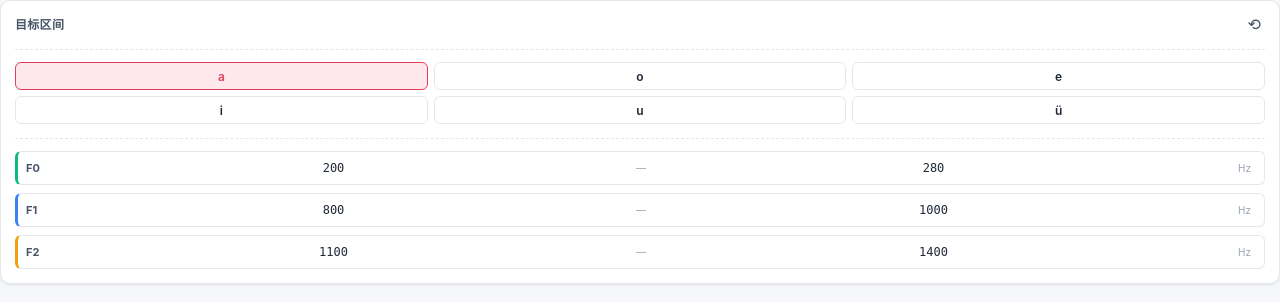
Test: TargetPresetBar › commits on blur and clamps F0 to the shared chart ceiling
Step 1. Replace the text in the number field named "F0上限" with "1100" → coordinates (941, 168), box [652,157,1230,179]
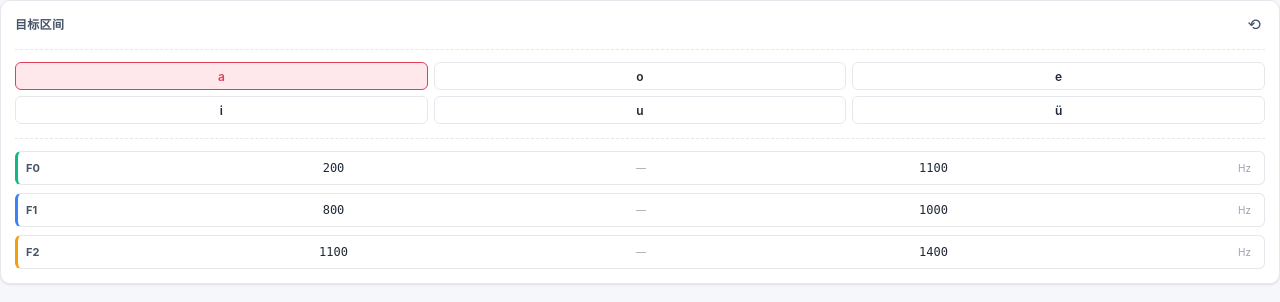
Step 2. Leave the number field named "F0上限", box [652,157,1230,179]
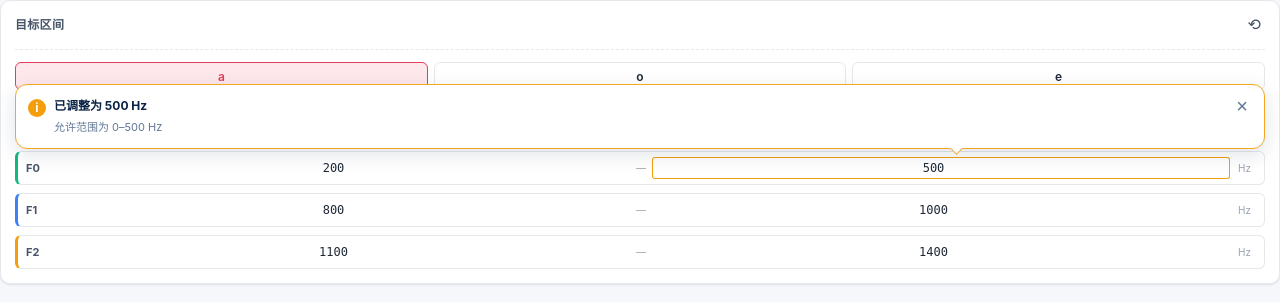
Expected: the number field named "F0上限" holds "500", [652,157,1230,179]
